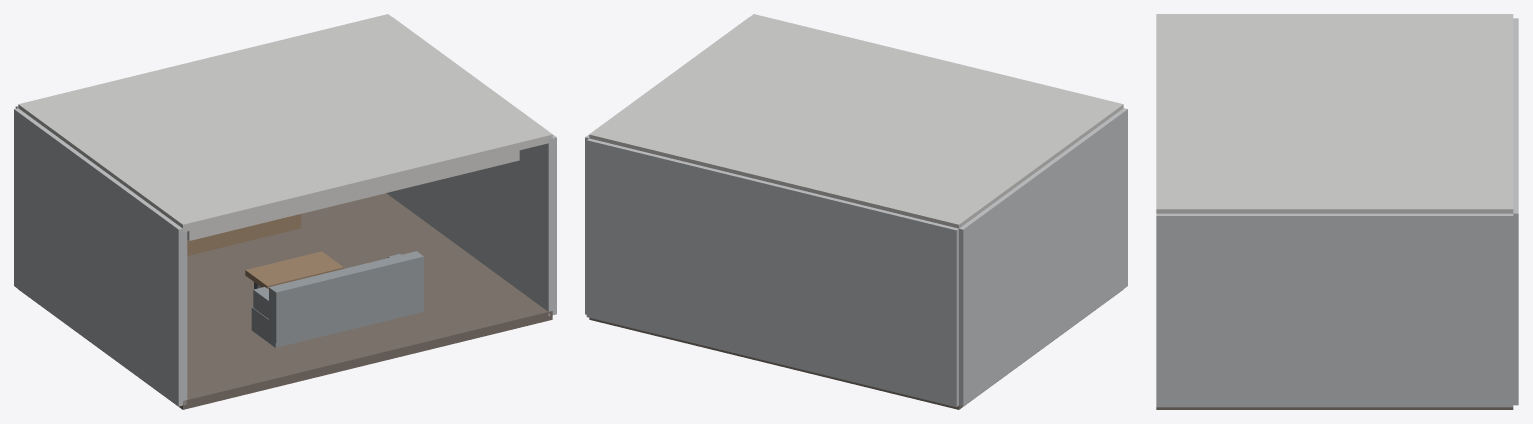
Rendered from sanca-iluminacao.glb.
3 views of the same model, side by side, from view 1: azimuth 30°, elevation 25°; view 2: azimuth 150°, elevation 25°; view 3: azimuth 270°, elevation 25° (orthographic). The views are drawn at different scales.
Parts seen in each view (by area): view 1: sanca-iluminacao_001, sanca-iluminacao_000, sanca-iluminacao_003, sanca-iluminacao_004, sanca-iluminacao_006, sanca-iluminacao_017, sanca-iluminacao_009, sanca-iluminacao_014, sanca-iluminacao_005; view 2: sanca-iluminacao_002, sanca-iluminacao_001, sanca-iluminacao_003, sanca-iluminacao_000, sanca-iluminacao_004; view 3: sanca-iluminacao_001, sanca-iluminacao_004, sanca-iluminacao_002, sanca-iluminacao_000.
Part boxes in pixels (x1,y1,x2,y2): sanca-iluminacao_001: (18,14,552,232); sanca-iluminacao_000: (18,193,552,409); sanca-iluminacao_003: (14,108,187,406); sanca-iluminacao_004: (386,17,556,315); sanca-iluminacao_006: (269,251,423,343); sanca-iluminacao_017: (187,150,519,240); sanca-iluminacao_009: (245,251,343,289); sanca-iluminacao_014: (187,214,301,255); sanca-iluminacao_005: (251,307,423,347); sanca-iluminacao_002: (586,138,958,407); sanca-iluminacao_001: (589,14,1123,228); sanca-iluminacao_003: (959,108,1127,406); sanca-iluminacao_000: (589,289,1123,409); sanca-iluminacao_004: (585,17,749,314); sanca-iluminacao_001: (1156,14,1513,213); sanca-iluminacao_004: (1156,213,1513,407); sanca-iluminacao_002: (1513,18,1518,405); sanca-iluminacao_000: (1156,407,1513,409).
Bounding box in the file's own units: 7.16 × 3.35 × 5.48.
